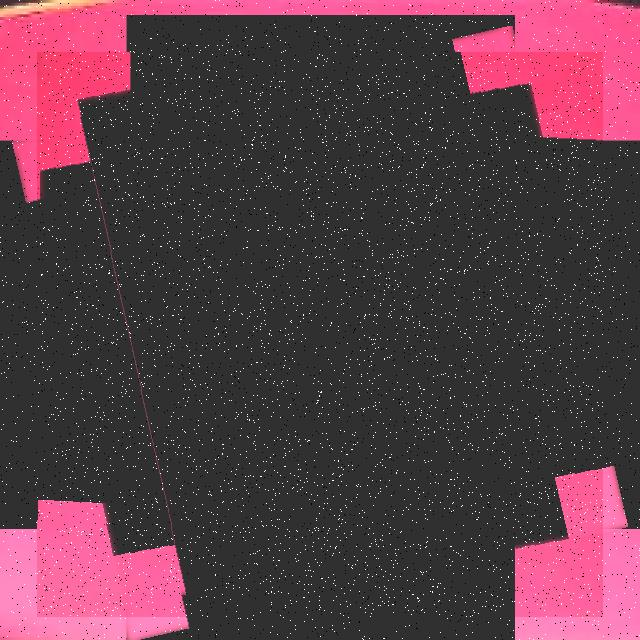dua ribu rupiah: (37, 52, 603, 617)
